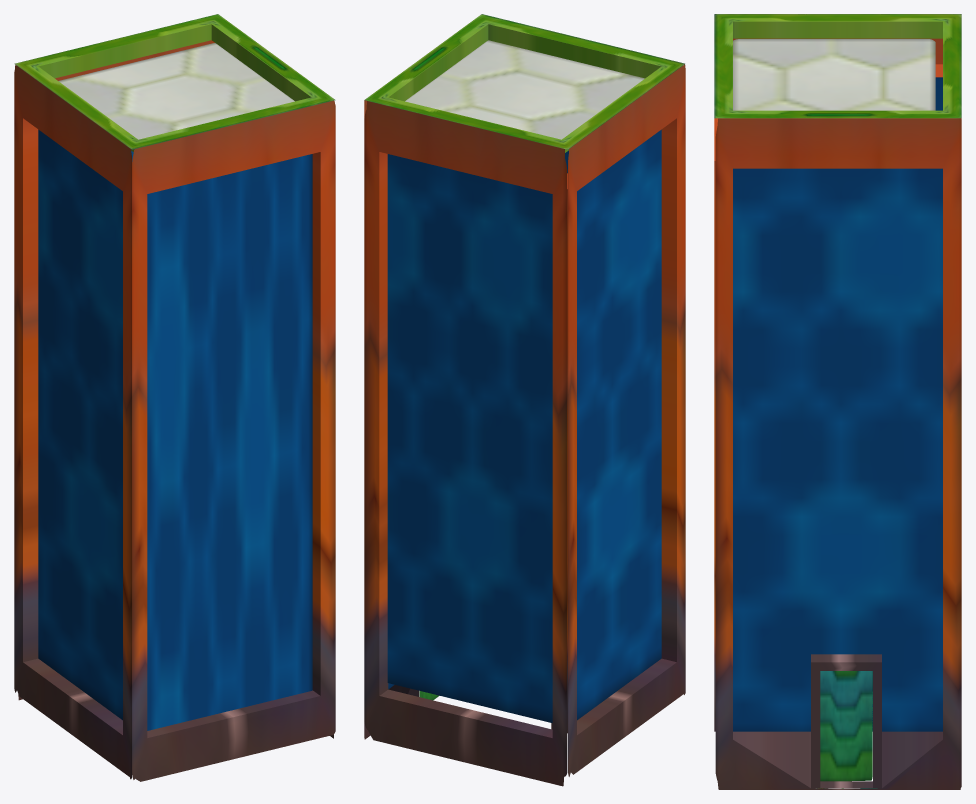
Rendered from buildingB.obj.
3 renders of one model, left to right at view 1: azimuth 30°, elevation 25°; view 2: azimuth 150°, elevation 25°; view 3: azimuth 270°, elevation 25°, orthographic. The views are drawn at different scales.
Parts seen in each view (by area): view 1: Cube; view 2: Cube; view 3: Cube.
Part boxes in pixels (x1,y1,x2,y2): Cube: (14, 14, 335, 781); Cube: (364, 14, 685, 786); Cube: (714, 14, 961, 789).
Bounding box in the file's own units: 2 × 6 × 2.
1 material, 1 textured.
